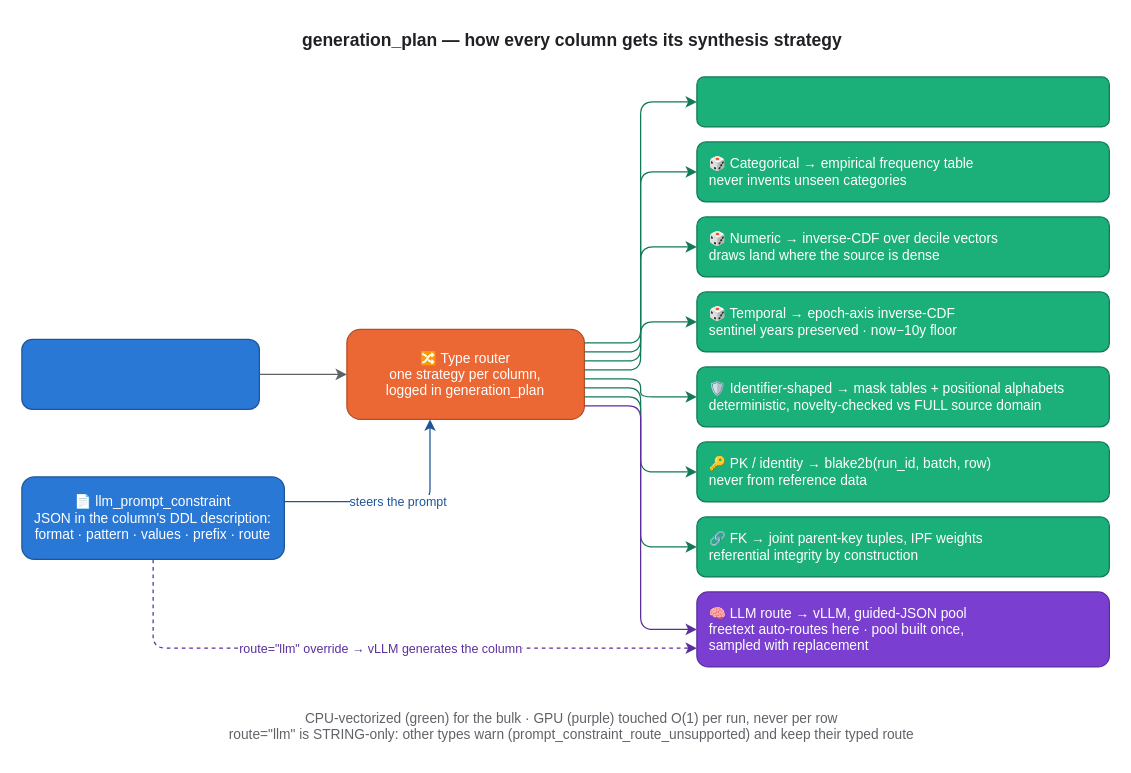
Some shapes in this 1131 by 773 pixel diagram are drawn without their labels. Each missing label, with the centre of its shape:
"⚙️ Constant → copied verbatim" belongs at point 902,101.
"📄 DDL + reference sample per-column profile (stats, shapes)" belongs at point 140,373.
